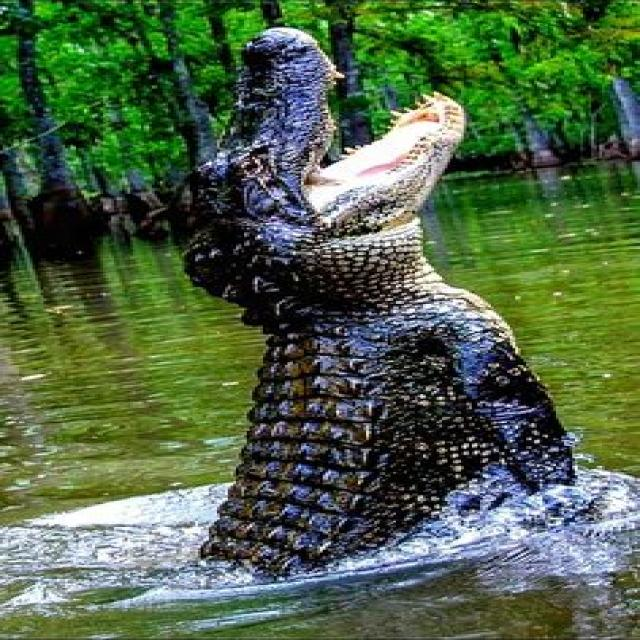Carnivorous: (171, 29, 635, 587)
